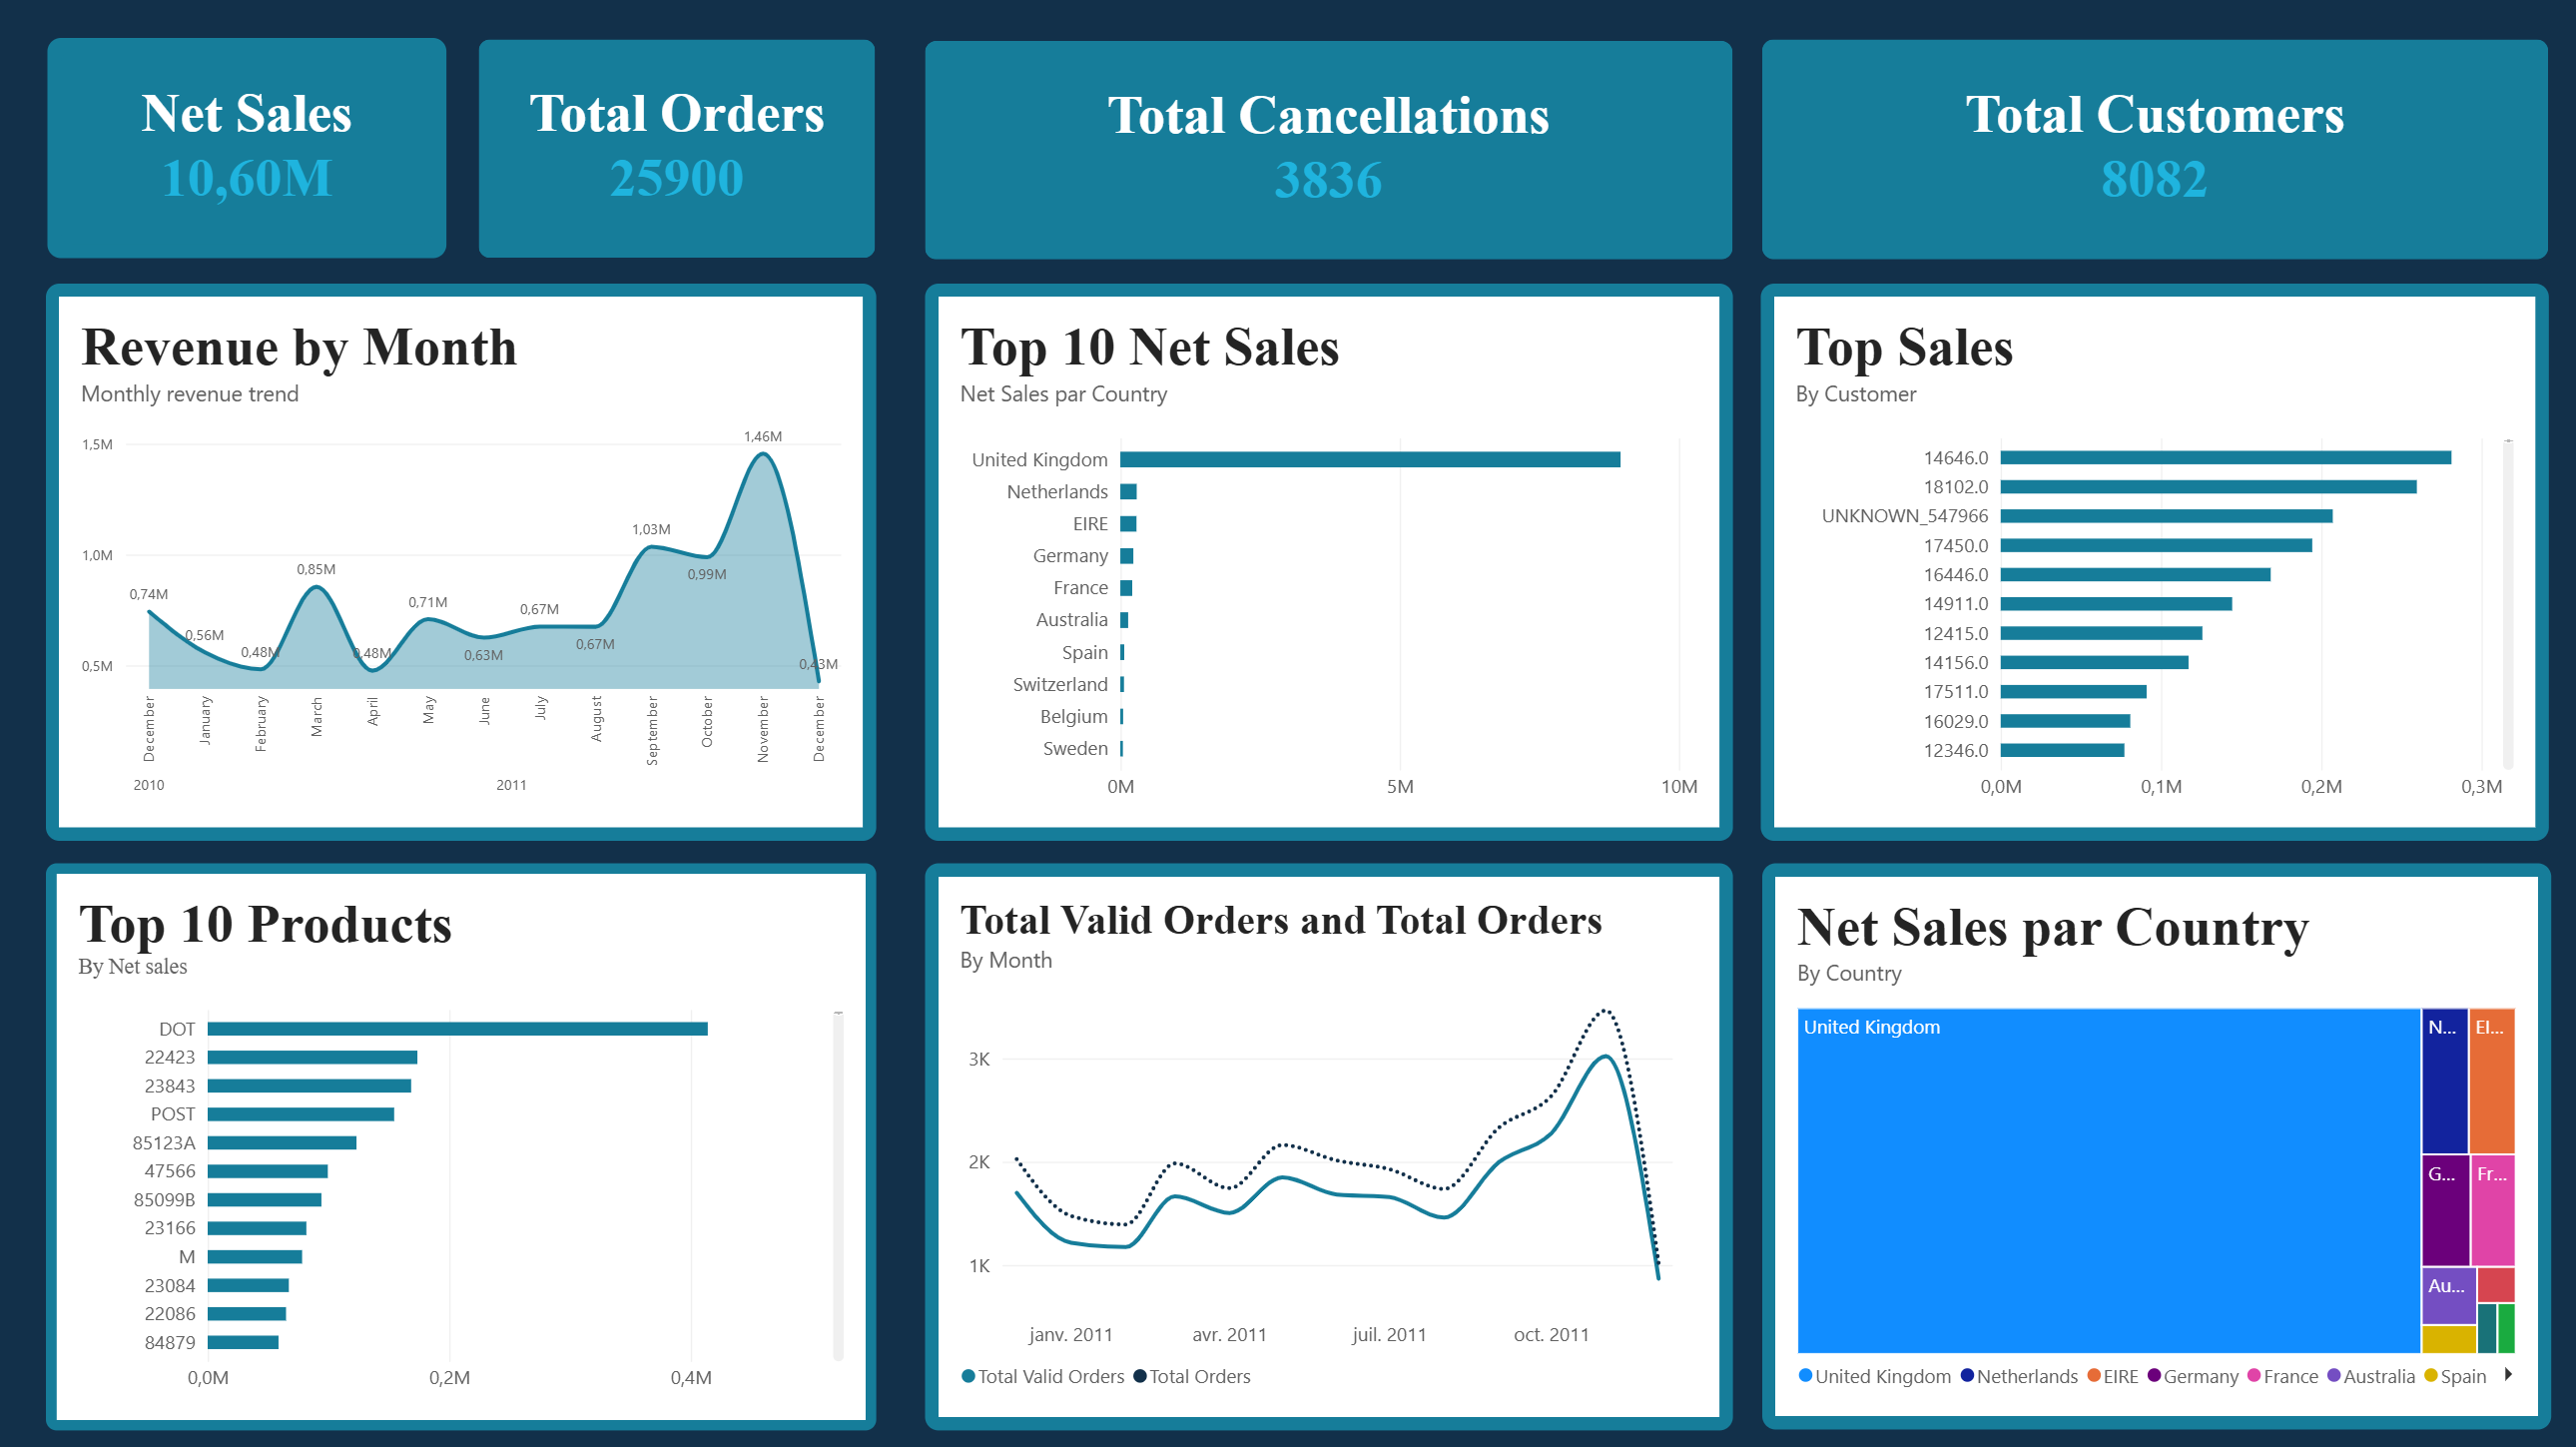

This screenshot's page, from the dashboard's own definition file:
{"tool":"powerbi","page":{"name":"Page 1","canvas":[1920,1080],"ordinal":0},"visuals":[{"type":"cardVisual","fields":{"Data":["Measures (2).Net Sales"]},"box":[40.8,31.5,296,163.2],"z":0},{"type":"cardVisual","fields":{"Data":["Measures (2).Total Orders"]},"box":[361.3,32.6,294.9,162],"z":1},{"type":"lineChart","title":"Revenue by Month","fields":{"Category":["warehouse dim_date.Year","warehouse dim_date.MonthName"],"Y":["Measures (2).Total Sales"]},"box":[40.2,213.5,616,413.7],"z":2},{"type":"clusteredBarChart","title":"Top 10 Products","fields":{"Category":["warehouse dim_product.StockCode"],"Y":["Measures (2).Net Sales"]},"box":[40.2,642.9,616,420.4],"z":3},{"type":"clusteredBarChart","title":"Top 10 Net Sales","fields":{"Category":["warehouse dim_customer.Country"],"Y":["Measures (2).Net Sales"]},"box":[692.1,213.5,599.3,413.7],"z":4},{"type":"lineChart","title":"Total Valid Orders and Total Orders","fields":{"Category":["warehouse dim_date.Date.Variation.Hiérarchie de dates.Année","warehouse dim_date.Date.Variation.Hiérarchie de dates.Trimestre","warehouse dim_date.Date.Variation.Hiérarchie de dates.Mois"],"Y":["Measures (2).Total Valid Orders","Measures (2).Total Orders"]},"box":[692.1,642.9,599.3,420.4],"z":5},{"type":"clusteredBarChart","title":"Top Sales","fields":{"Category":["warehouse dim_customer.CustomerID"],"Y":["Measures (2).Net Sales"]},"box":[1312.6,213.5,584.7,413.7],"z":6},{"type":"treemap","fields":{"Group":["warehouse dim_customer.Country"],"Values":["Measures (2).Net Sales"]},"box":[1313,643,585,420],"z":7},{"type":"cardVisual","fields":{"Data":["Measures (2).Total Customers"]},"box":[1313.5,32.6,583.9,163.2],"z":8},{"type":"cardVisual","fields":{"Data":["Measures (2).Total Cancellations"]},"box":[692,33,599,162],"z":9}]}

Visuals, with their boxes in screenshot pixels (x1, y1, x2, y2), scaled from the page's 1920x1080 canvas onto the 2576x1447 screenshot:
cardVisual - Measures (2).Net Sales: [55,42,452,261]
cardVisual - Measures (2).Total Orders: [484,44,881,261]
"Revenue by Month" lineChart: [54,286,881,840]
"Top 10 Products" clusteredBarChart: [54,862,881,1425]
"Top 10 Net Sales" clusteredBarChart: [929,286,1732,840]
"Total Valid Orders and Total Orders" lineChart: [929,862,1732,1425]
"Top Sales" clusteredBarChart: [1761,286,2545,840]
treemap - warehouse dim_customer.Country x Measures (2).Net Sales: [1761,862,2546,1424]
cardVisual - Measures (2).Total Customers: [1762,44,2546,263]
cardVisual - Measures (2).Total Cancellations: [929,44,1732,262]
